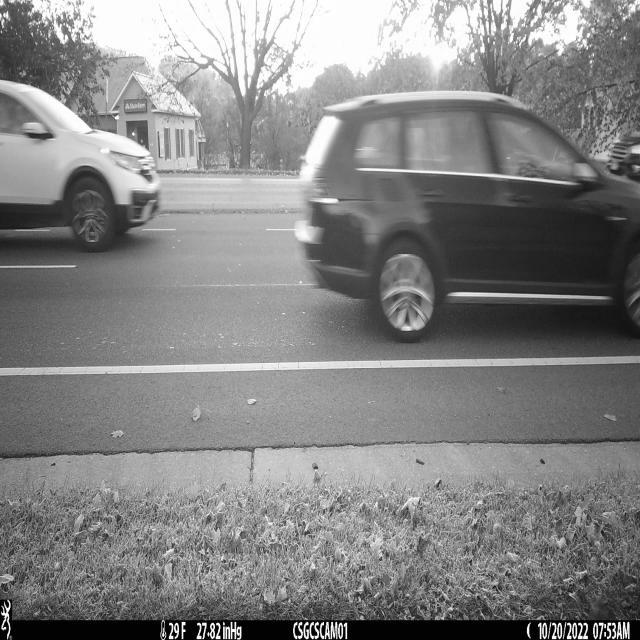SUV: (294, 91, 640, 343)
